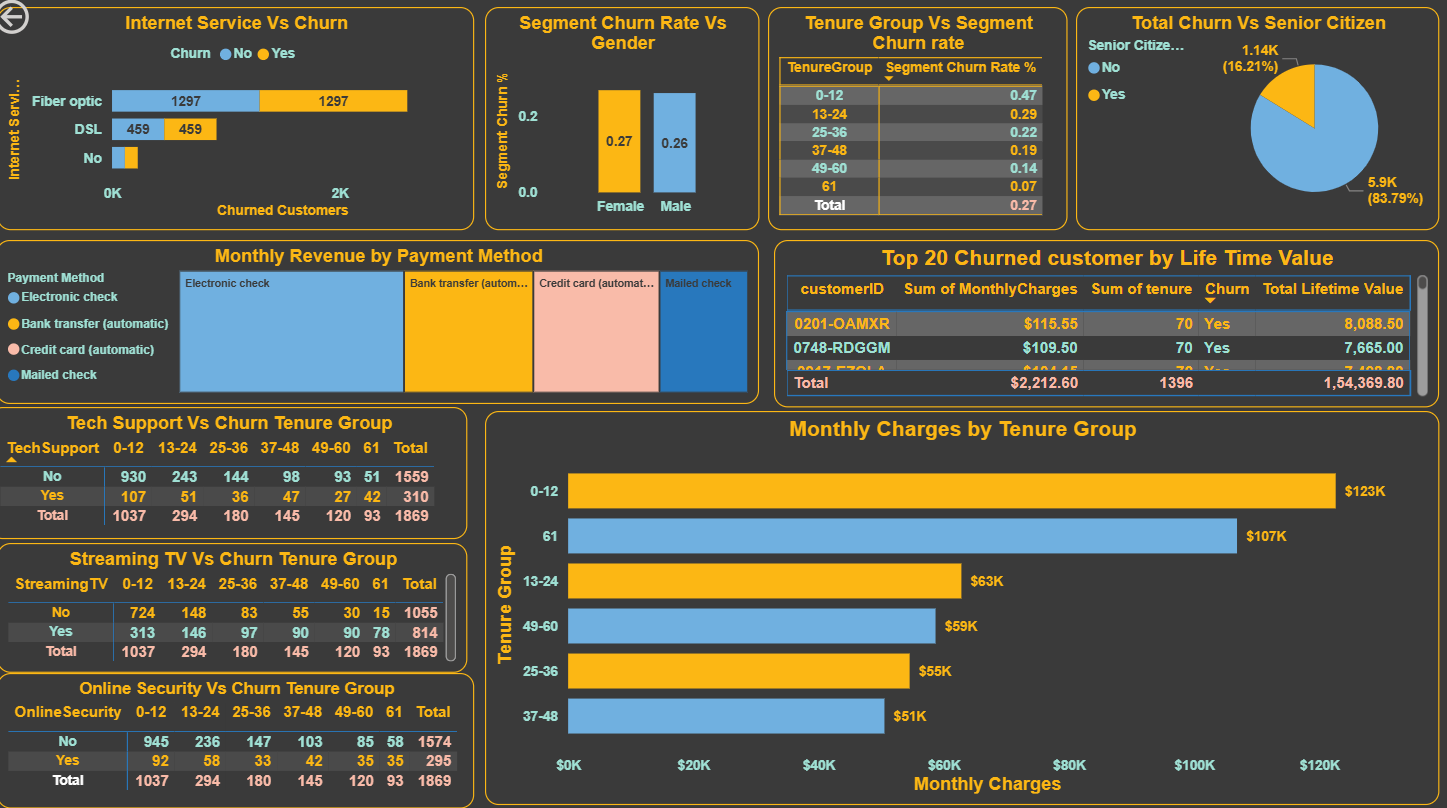

What the dashboard file says about the page in this screenshot:
{"tool":"powerbi","page":{"name":"Demographics and Tenure ","canvas":[1280,720],"ordinal":1},"visuals":[{"type":"columnChart","title":"Segment Churn Rate Vs Gender","fields":{"Category":["DimGender.gender"],"Y":["DimContract.Segment Churn Rate %"]},"box":[435.5,11.4,240.6,195.8],"z":0},{"type":"pieChart","title":"Total Churn Vs Senior Citizen","fields":{"Category":["FactCustomers.SeniorCitzenFlag"],"Y":["CountNonNull(FactCustomers.Churn)"]},"box":[954.4,11.4,318.7,195.8],"z":1000},{"type":"pivotTable","title":"Tenure Group  Vs Segment Churn rate","fields":{"Values":["DimContract.Segment Churn Rate %"],"Rows":["FactCustomers.TenureGroup"]},"box":[684,11.4,262.5,195.8],"z":2000},{"type":"tableEx","title":"Top 20 Churned customer by Life Time Value","fields":{"Values":["FactCustomers.customerID","Sum(FactCustomers.MonthlyCharges)","Sum(FactCustomers.tenure)","FactCustomers.Churn","DimContract.Total Lifetime Value"]},"box":[689.6,215.9,583.6,146.9],"z":3000},{"type":"barChart","title":"Internet Service Vs Churn","fields":{"Category":["DimInternet.InternetService"],"Series":["FactCustomers.Churn"],"Y":["DimContract.Churned Customers"]},"box":[7,11.4,418.8,195.8],"z":4000},{"type":"treemap","title":"Monthly Revenue by Payment Method","fields":{"Group":["DimPaymentMethod.PaymentMethod"],"Values":["DimContract.Total Monthly Revenue"]},"box":[5.8,215.9,670.2,144],"z":5000},{"type":"actionButton","box":[0,0,100,40],"z":6000},{"type":"pivotTable","title":"Tech Support Vs Churn Tenure Group","fields":{"Rows":["FactCustomers.TechSupport"],"Values":["DimContract.Churned Customers"],"Columns":["FactCustomers.TenureGroup"]},"box":[0,362.8,420.2,115.7],"z":7000},{"type":"pivotTable","title":"Streaming TV Vs Churn Tenure Group","fields":{"Rows":["FactCustomers.StreamingTV"],"Columns":["FactCustomers.TenureGroup"],"Values":["DimContract.Churned Customers"]},"box":[6.8,482.4,413.4,113.8],"z":8000},{"type":"pivotTable","title":"Online Security Vs Churn Tenure Group","fields":{"Rows":["FactCustomers.OnlineSecurity"],"Columns":["FactCustomers.TenureGroup"],"Values":["DimContract.Churned Customers"]},"box":[6.8,596.2,419.2,118.7],"z":9000},{"type":"barChart","title":" Monthly Charges by Tenure Group","fields":{"Category":["DimTenure.TenureGroup"],"Y":["Sum(FactCustomers.MonthlyCharges)"]},"box":[435.5,366.1,837.7,346],"z":9002}]}

Visuals, with their boxes in screenshot pixels (x1, y1, x2, y2), scaled from the page's 1280x720 canvas onto the 1447x808 screenshot:
"Segment Churn Rate Vs Gender" columnChart: box=[492, 13, 764, 233]
"Total Churn Vs Senior Citizen" pieChart: box=[1079, 13, 1439, 233]
"Tenure Group  Vs Segment Churn rate" pivotTable: box=[773, 13, 1070, 233]
"Top 20 Churned customer by Life Time Value" tableEx: box=[780, 242, 1439, 407]
"Internet Service Vs Churn" barChart: box=[8, 13, 481, 233]
"Monthly Revenue by Payment Method" treemap: box=[7, 242, 764, 404]
actionButton: box=[0, 0, 113, 45]
"Tech Support Vs Churn Tenure Group" pivotTable: box=[0, 407, 475, 537]
"Streaming TV Vs Churn Tenure Group" pivotTable: box=[8, 541, 475, 669]
"Online Security Vs Churn Tenure Group" pivotTable: box=[8, 669, 482, 802]
" Monthly Charges by Tenure Group" barChart: box=[492, 411, 1439, 799]
